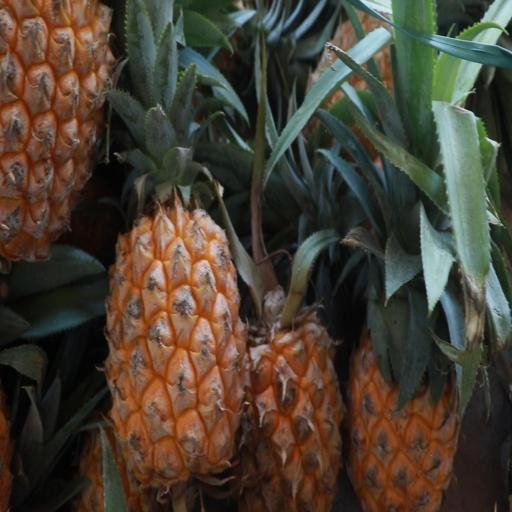Pineapple - v8 v1: (101, 130, 251, 492), (345, 187, 467, 512), (227, 252, 347, 512)
